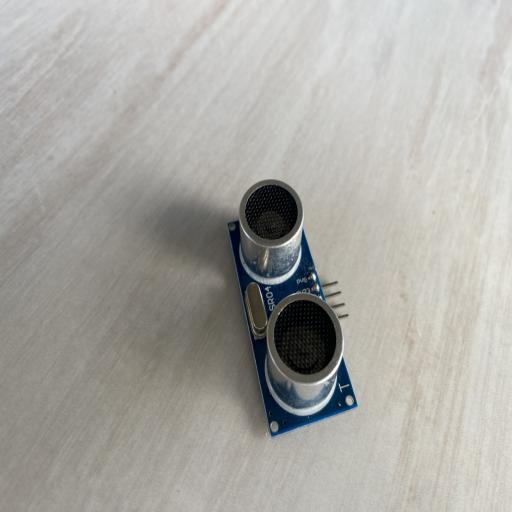Ultrasonic Sensor: (227, 178, 358, 438)
